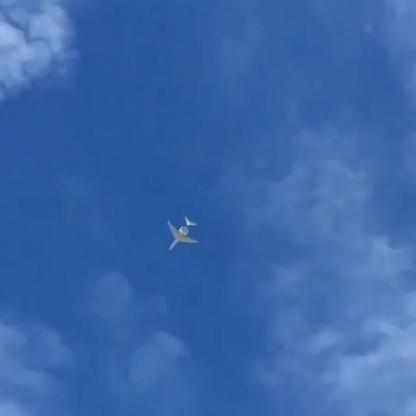CIV_Plane: (167, 216, 200, 250)
